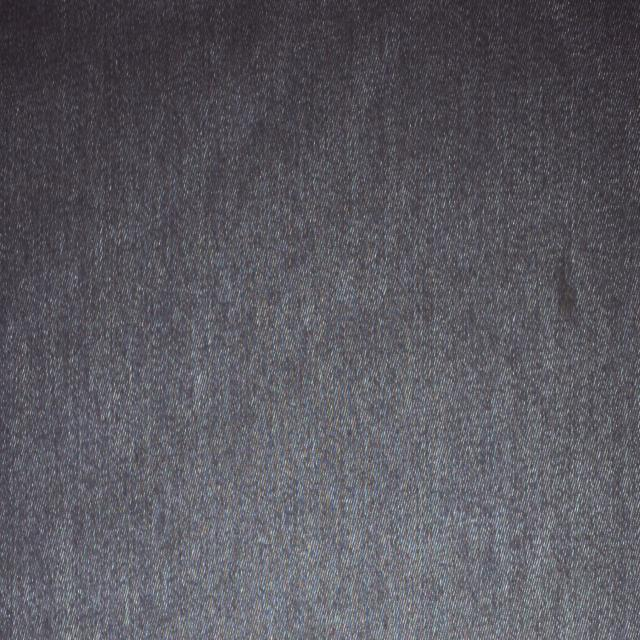Knot: (554, 249, 579, 324)
